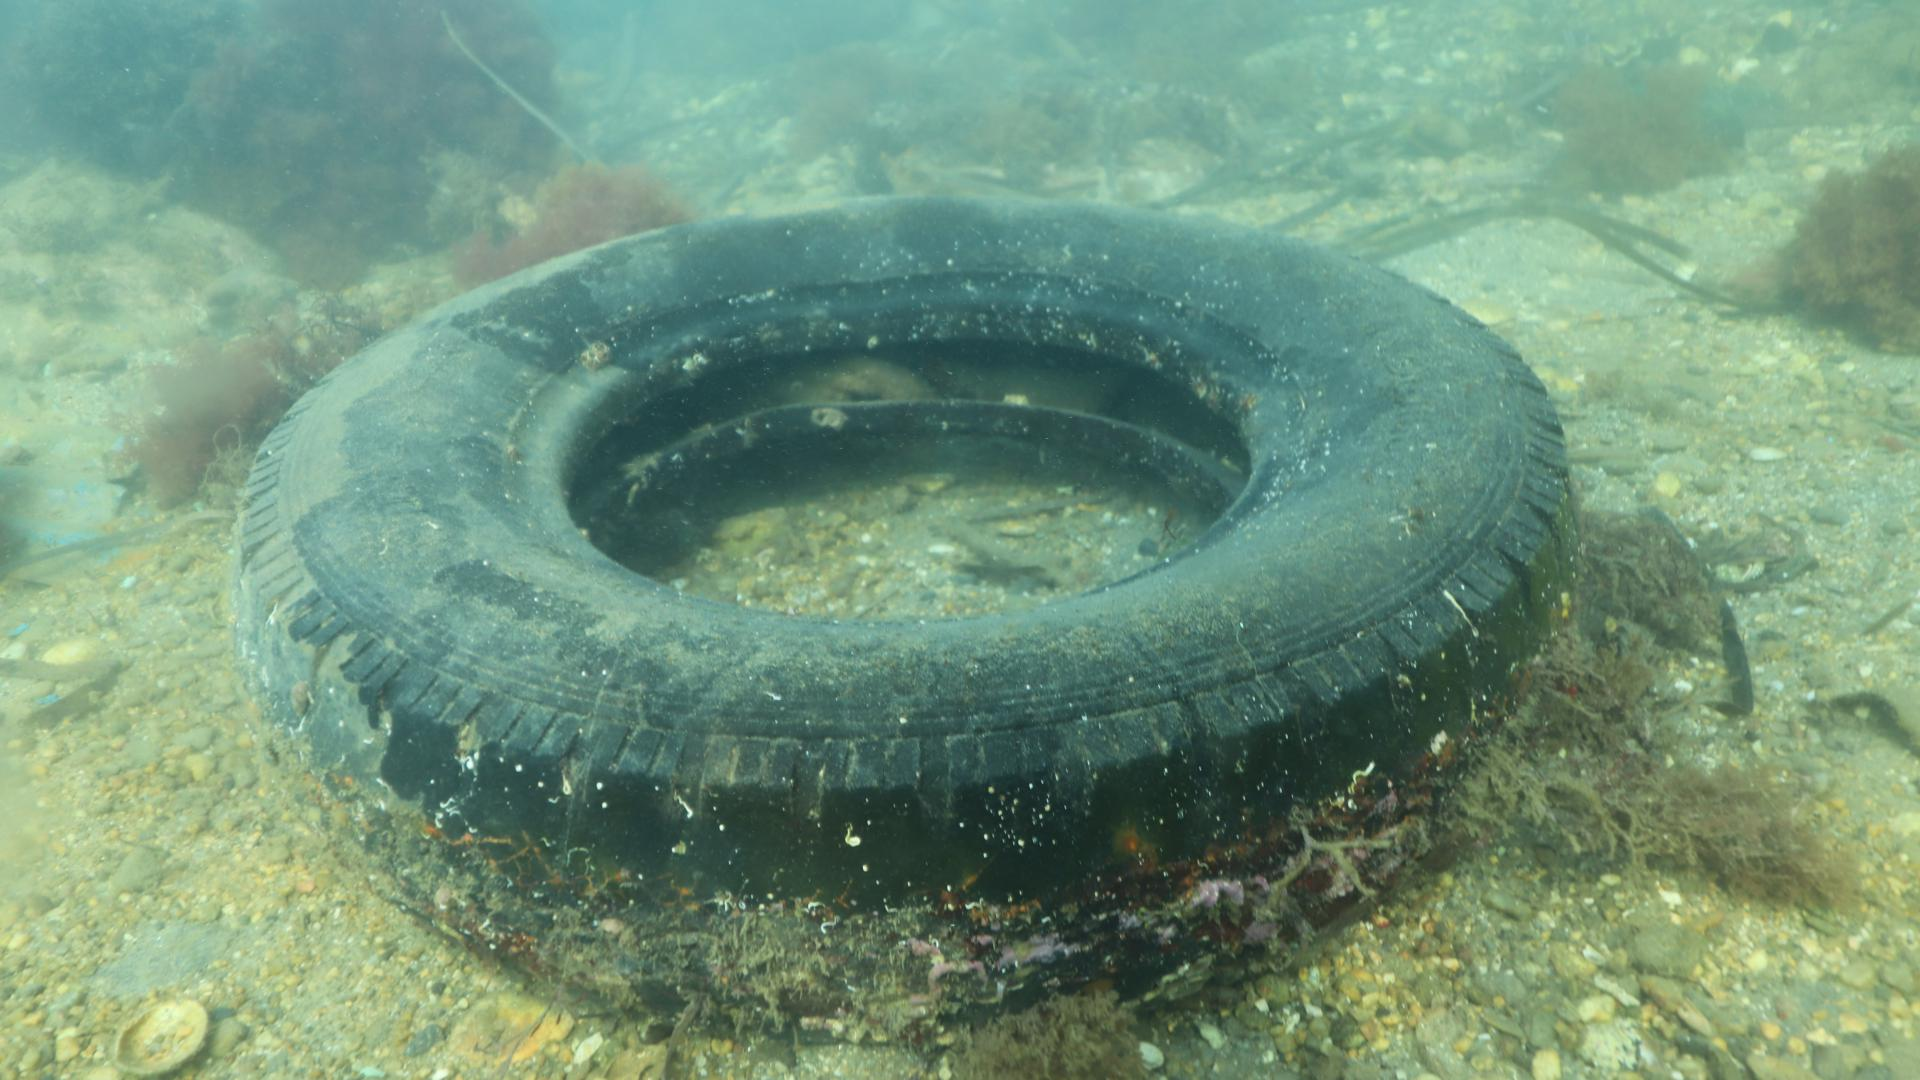tire: (237, 194, 1582, 1040)
